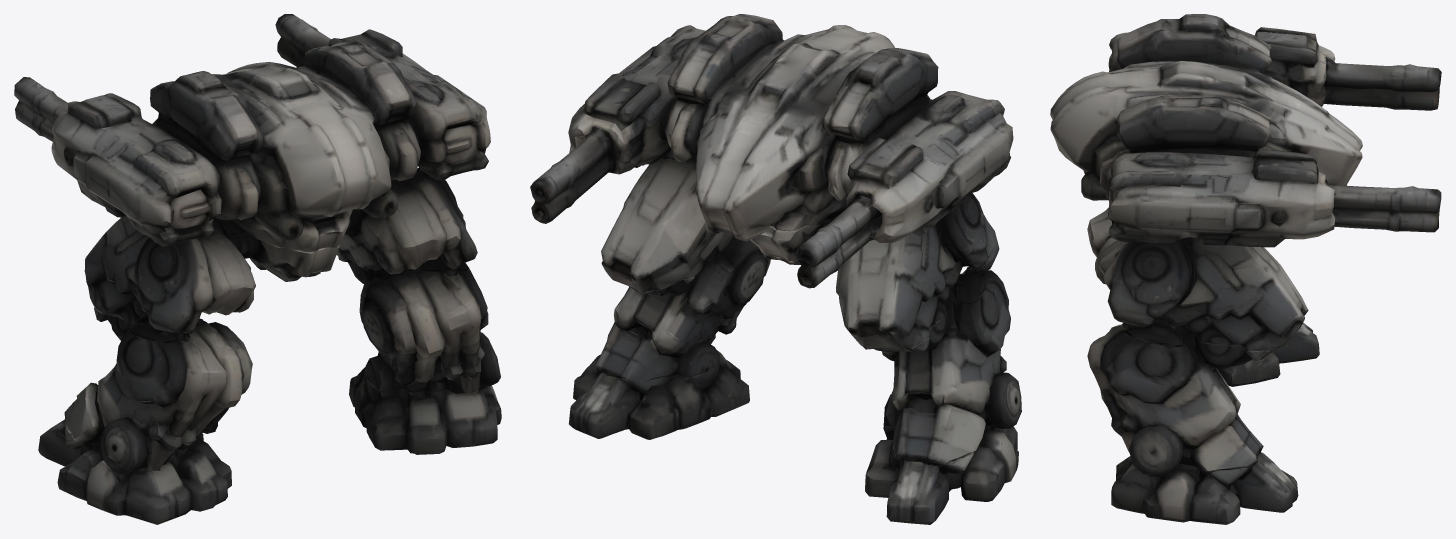
Rendered from hero_h5.glb.
3 views of the same model, side by side, from view 1: azimuth 30°, elevation 25°; view 2: azimuth 150°, elevation 25°; view 3: azimuth 270°, elevation 25° (orthographic). The views are drawn at different scales.
Parts seen in each view (by area): view 1: hull, weapon_l, shin_l, shin_r, thigh_l, foot_l, weapon_r, thigh_r, foot_r, pelvis; view 2: hull, weapon_l, shin_l, thigh_l, shin_r, weapon_r, thigh_r, foot_r, foot_l, pelvis; view 3: hull, weapon_r, shin_r, thigh_r, foot_r, weapon_l, foot_l, shin_l.
Part boxes in pixels (x1=…): hull: x1=150, y1=40, x2=433, y2=252; weapon_l: x1=14, y1=77, x2=221, y2=246; shin_l: x1=64, y1=307, x2=252, y2=474; shin_r: x1=338, y1=256, x2=500, y2=393; thigh_l: x1=84, y1=216, x2=301, y2=343; foot_l: x1=38, y1=419, x2=231, y2=524; weapon_r: x1=275, y1=14, x2=490, y2=180; thigh_r: x1=307, y1=168, x2=477, y2=276; foot_r: x1=349, y1=367, x2=501, y2=454; pelvis: x1=225, y1=216, x2=351, y2=278; hull: x1=661, y1=14, x2=938, y2=241; weapon_l: x1=795, y1=91, x2=1013, y2=288; shin_l: x1=863, y1=270, x2=1021, y2=465; thigh_l: x1=779, y1=192, x2=999, y2=349; shin_r: x1=595, y1=237, x2=770, y2=383; weapon_r: x1=530, y1=25, x2=705, y2=223; thigh_r: x1=601, y1=156, x2=781, y2=292; foot_r: x1=568, y1=350, x2=749, y2=439; foot_l: x1=865, y1=425, x2=1018, y2=524; pelvis: x1=750, y1=219, x2=833, y2=260; hull: x1=1050, y1=14, x2=1362, y2=200; weapon_r: x1=1106, y1=148, x2=1441, y2=247; shin_r: x1=1087, y1=319, x2=1272, y2=475; thigh_r: x1=1099, y1=237, x2=1308, y2=350; foot_r: x1=1111, y1=452, x2=1298, y2=524; weapon_l: x1=1108, y1=27, x2=1441, y2=110; foot_l: x1=1217, y1=323, x2=1319, y2=386; shin_l: x1=1087, y1=207, x2=1116, y2=284.
Bounding box in the file's own units: 4.83 × 4.38 × 4.14.
Materials: 1 (1 with a texture image).
